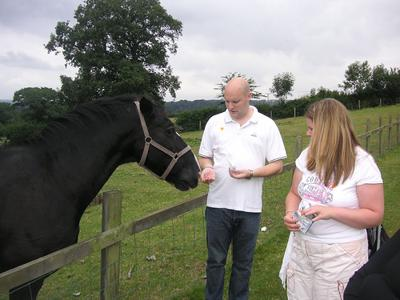person: (199, 75, 286, 300)
